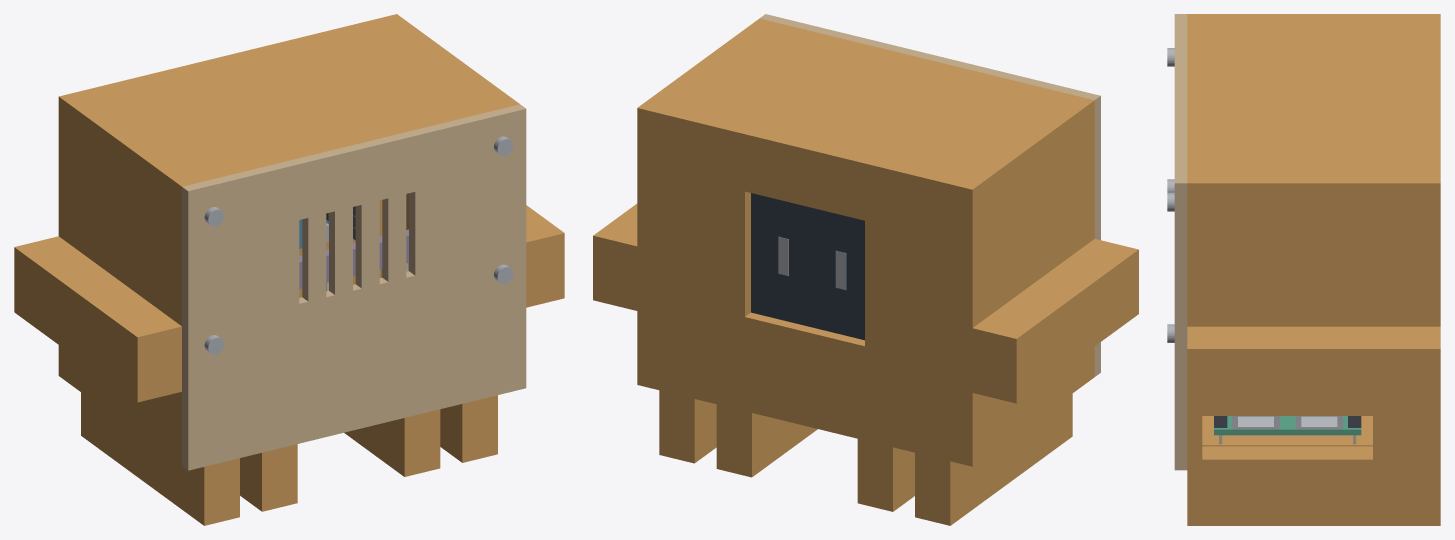
Rendered from hardware_fit_assembly.glb.
The picture shows the model from 3 angles, left to right: view 1: azimuth 30°, elevation 25°; view 2: azimuth 150°, elevation 25°; view 3: azimuth 270°, elevation 25°; orthographic projection. The views are drawn at different scales.
Visible parts, largest first — view 1: front, back; view 2: front, screen_face, back; view 3: front, back, board_pcb, board_usb, board_header_plastic.
Part boxes in pixels (x1,y1,x2,y2): front: (14, 14, 564, 525); back: (182, 104, 526, 470); front: (593, 18, 1138, 525); screen_face: (751, 193, 864, 339); back: (760, 14, 1100, 376); front: (1187, 14, 1440, 525); back: (1174, 14, 1187, 470); board_pcb: (1214, 416, 1361, 435); board_usb: (1232, 416, 1342, 429); board_header_plastic: (1214, 416, 1361, 427).
Size of the model in its own units: 96 by 74 by 51.8.
